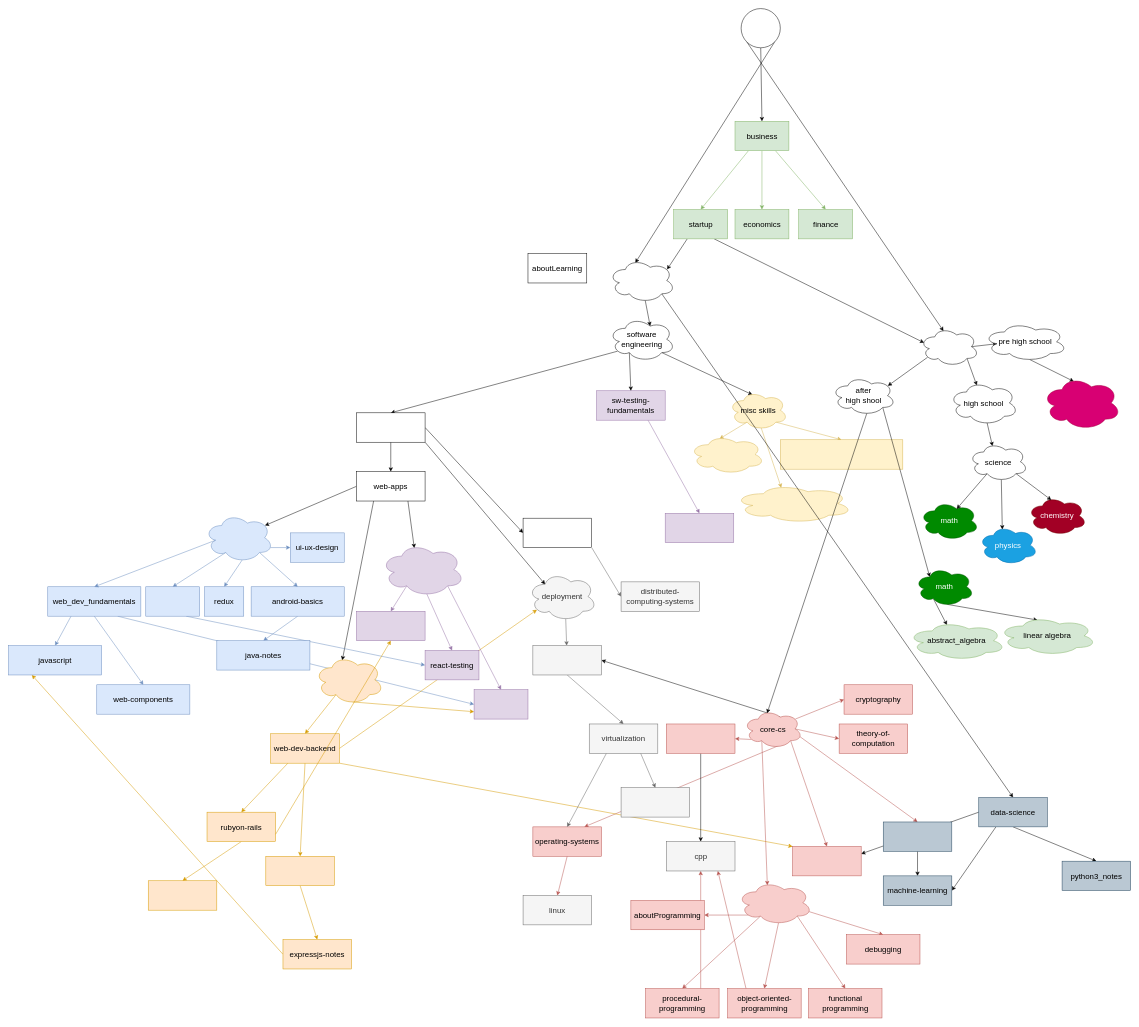
Some shapes in this 1139 by 1027 pixel diagram are drawn without their labels. The box of each missing label's shape, as (x1, y1, x2, y2) in pixels:
AI-fundamentals: (883, 821, 952, 851)
back end development: (314, 655, 383, 704)
cloud computing: (532, 645, 601, 675)
container-orchestration: (621, 787, 690, 817)
DBs-SQL: (792, 846, 861, 876)
domain knowledge: (919, 327, 979, 366)
dsa-cpp: (666, 723, 735, 753)
engineering: (608, 258, 675, 303)
front end development: (204, 513, 273, 562)
git_notes: (689, 434, 764, 474)
gui-apps: (356, 412, 425, 442)
jest-testing: (665, 513, 734, 543)
learn_a_new_programming-language: (780, 439, 903, 469)
MiscWebStuff: (380, 542, 464, 597)
nodejs-notes: (265, 856, 334, 886)
PKB: (741, 8, 780, 48)
programming: (737, 880, 812, 925)
reactjs-notes: (145, 586, 200, 616)
regular_expressions: (733, 483, 853, 523)
rspec-testing: (356, 611, 425, 641)
ruby-lang: (148, 880, 217, 910)
social studies: (1042, 376, 1121, 430)
sw-system-design: (523, 518, 592, 548)
web-asset-bundling: (474, 689, 528, 719)
